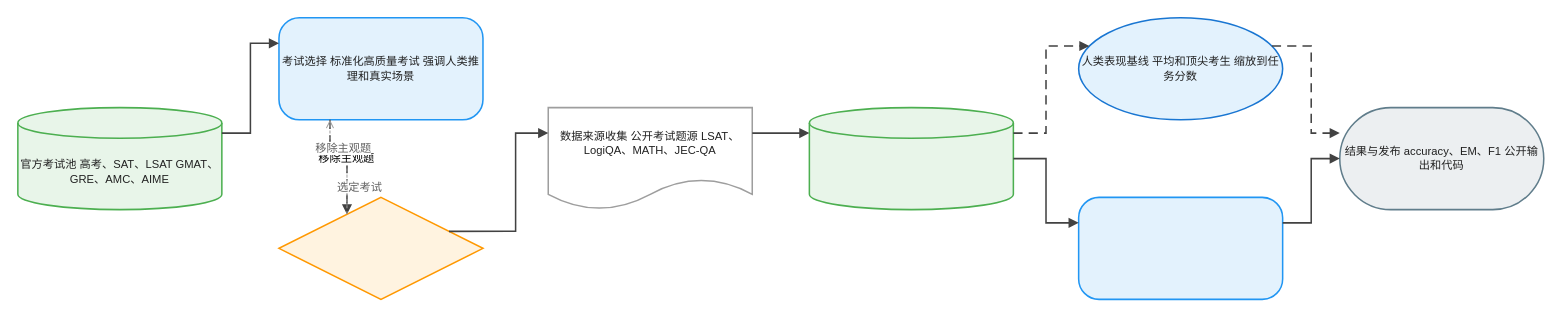
Some shapes in this 1563 by 318 pixel diagram are drawn without their labels. The shapes that lost their labels are listed below. From the top down, each one's centre as x and y in pixels, then its label:
point 911,158: AGIEval 数据集 8,062 道题 中英双语覆盖
point 380,248: 客观题过滤 移除主观题 保留选择题和填空题
point 1180,248: 模型评估 零样本、少样本 chain-of-thought 提示
